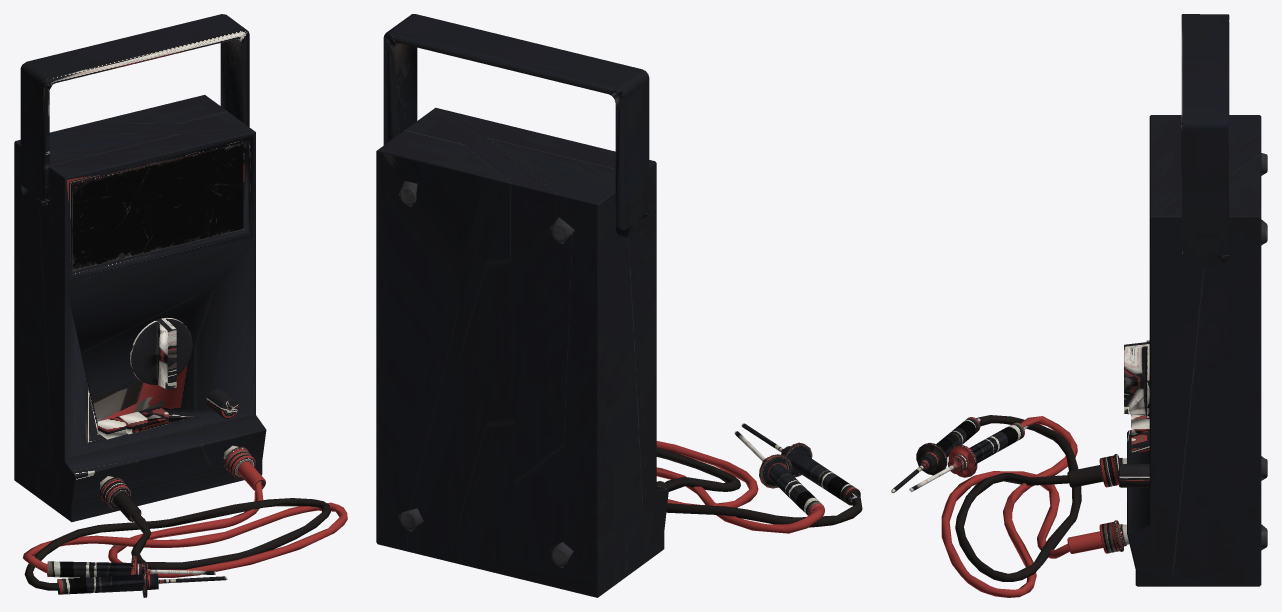
The model's file is retro_multimeter.glb.
The picture shows the model from 3 angles, left to right: view 1: azimuth 30°, elevation 25°; view 2: azimuth 150°, elevation 25°; view 3: azimuth 270°, elevation 25°; orthographic projection. The views are drawn at different scales.
Visible parts, largest first — view 1: retro_multimeter_LOD0, retro_multimeter_cables_LOD0, retro_multimeter_handle_LOD0, retro_multimeter_dial_LOD0, retro_multimeter_buttons_LOD0, retro_multimeter_knob_LOD0; view 2: retro_multimeter_LOD0, retro_multimeter_handle_LOD0, retro_multimeter_cables_LOD0; view 3: retro_multimeter_LOD0, retro_multimeter_cables_LOD0, retro_multimeter_handle_LOD0, retro_multimeter_dial_LOD0, retro_multimeter_knob_LOD0, retro_multimeter_buttons_LOD0.
Part boxes in pixels (<box>): retro_multimeter_LOD0: <box>14,95,266,522</box>; retro_multimeter_cables_LOD0: <box>23,445,347,597</box>; retro_multimeter_handle_LOD0: <box>20,14,249,207</box>; retro_multimeter_dial_LOD0: <box>129,317,192,390</box>; retro_multimeter_buttons_LOD0: <box>97,406,169,439</box>; retro_multimeter_knob_LOD0: <box>206,389,238,418</box>; retro_multimeter_LOD0: <box>376,107,668,597</box>; retro_multimeter_handle_LOD0: <box>383,14,649,238</box>; retro_multimeter_cables_LOD0: <box>656,423,862,533</box>; retro_multimeter_LOD0: <box>1127,115,1267,586</box>; retro_multimeter_cables_LOD0: <box>891,415,1129,597</box>; retro_multimeter_handle_LOD0: <box>1181,14,1229,266</box>; retro_multimeter_dial_LOD0: <box>1124,340,1149,418</box>; retro_multimeter_knob_LOD0: <box>1119,463,1149,487</box>; retro_multimeter_buttons_LOD0: <box>1131,414,1149,452</box>.
Bounding box in the file's own units: 0.2156 × 0.2786 × 0.2024.
Materials: 2 (2 with a texture image).
